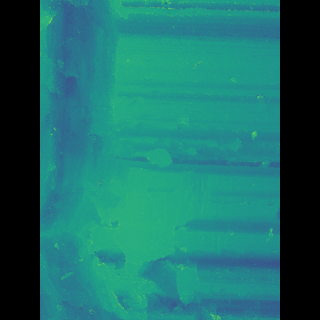Loch: (70, 0, 131, 320), (128, 152, 214, 319)
